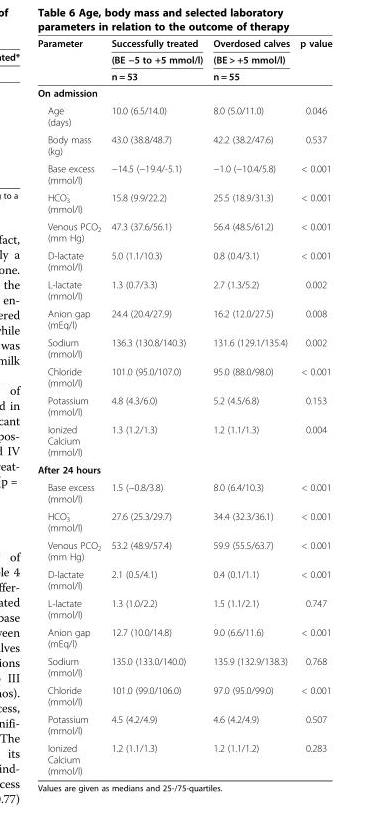table: (36, 37, 331, 776)
table column: (105, 37, 207, 776), (207, 37, 294, 776), (36, 37, 105, 776), (294, 37, 331, 776)
table column header: (36, 37, 331, 84)
table projected row header: (36, 84, 331, 101), (36, 460, 331, 477)
table row: (36, 420, 331, 460), (36, 738, 331, 776), (36, 187, 331, 217), (36, 506, 331, 536), (36, 101, 331, 130), (36, 130, 331, 159), (36, 217, 331, 246), (36, 246, 331, 275), (36, 275, 331, 304), (36, 304, 331, 333), (36, 333, 331, 362), (36, 362, 331, 391), (36, 391, 331, 420), (36, 477, 331, 506), (36, 536, 331, 565), (36, 565, 331, 594), (36, 594, 331, 623), (36, 623, 331, 652), (36, 652, 331, 681), (36, 681, 331, 710), (36, 159, 331, 187), (36, 710, 331, 738), (36, 50, 331, 67), (36, 67, 331, 84), (36, 84, 331, 101), (36, 460, 331, 477), (36, 37, 331, 50)
table spanning cell: (105, 37, 207, 84), (207, 37, 294, 84), (36, 37, 105, 84), (294, 37, 331, 84)
